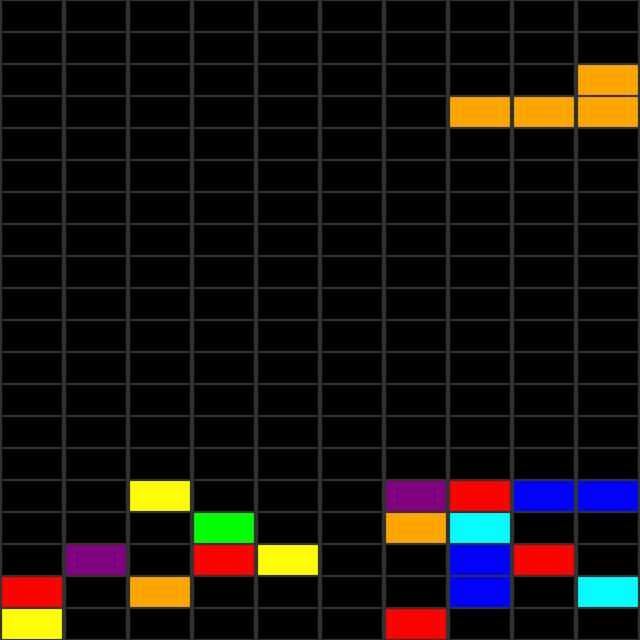Tetrimino_I: (445, 61, 640, 128)
